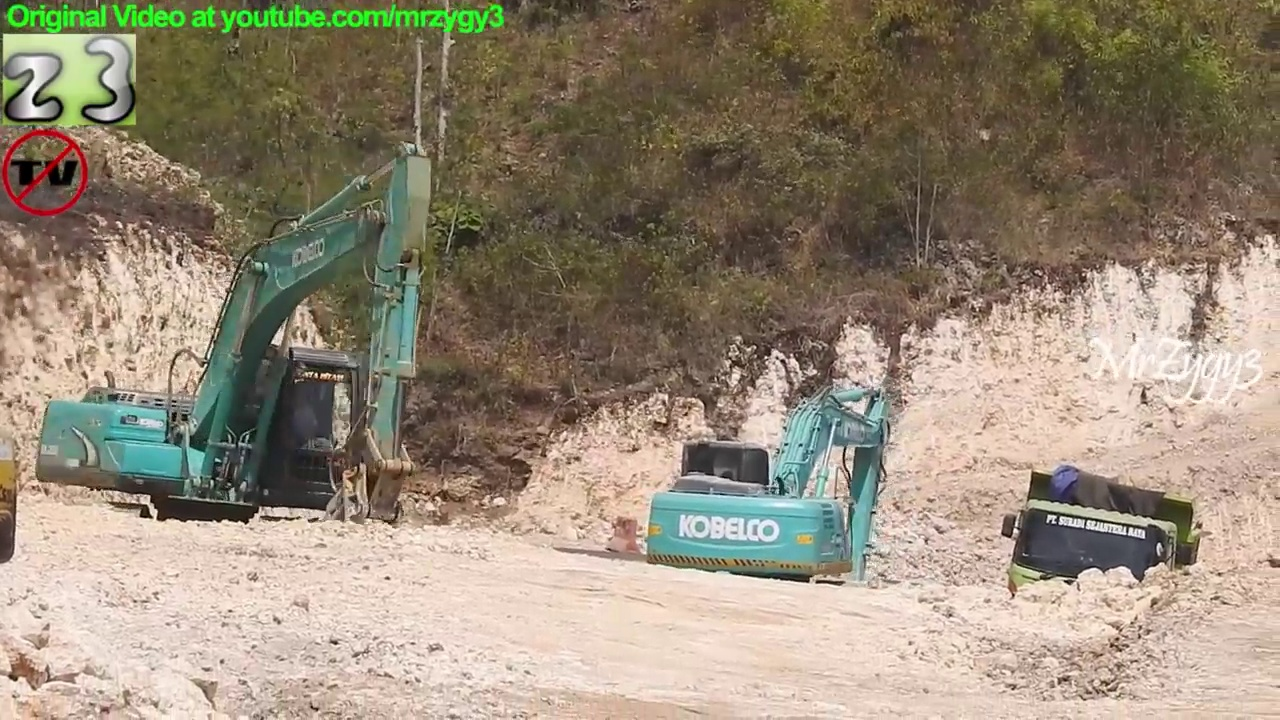excavator: (29, 119, 437, 576), (641, 379, 905, 641), (1, 423, 19, 571)
truck: (995, 461, 1213, 664)
